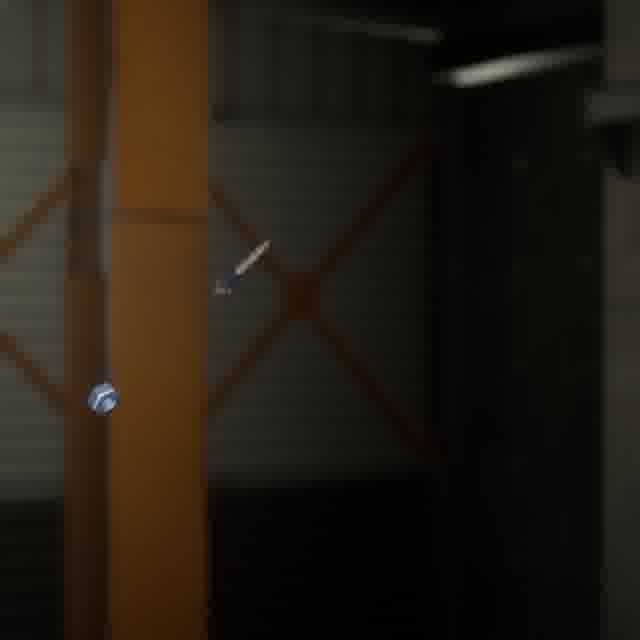bolt: (207, 235, 275, 302)
nut: (82, 377, 125, 420)
